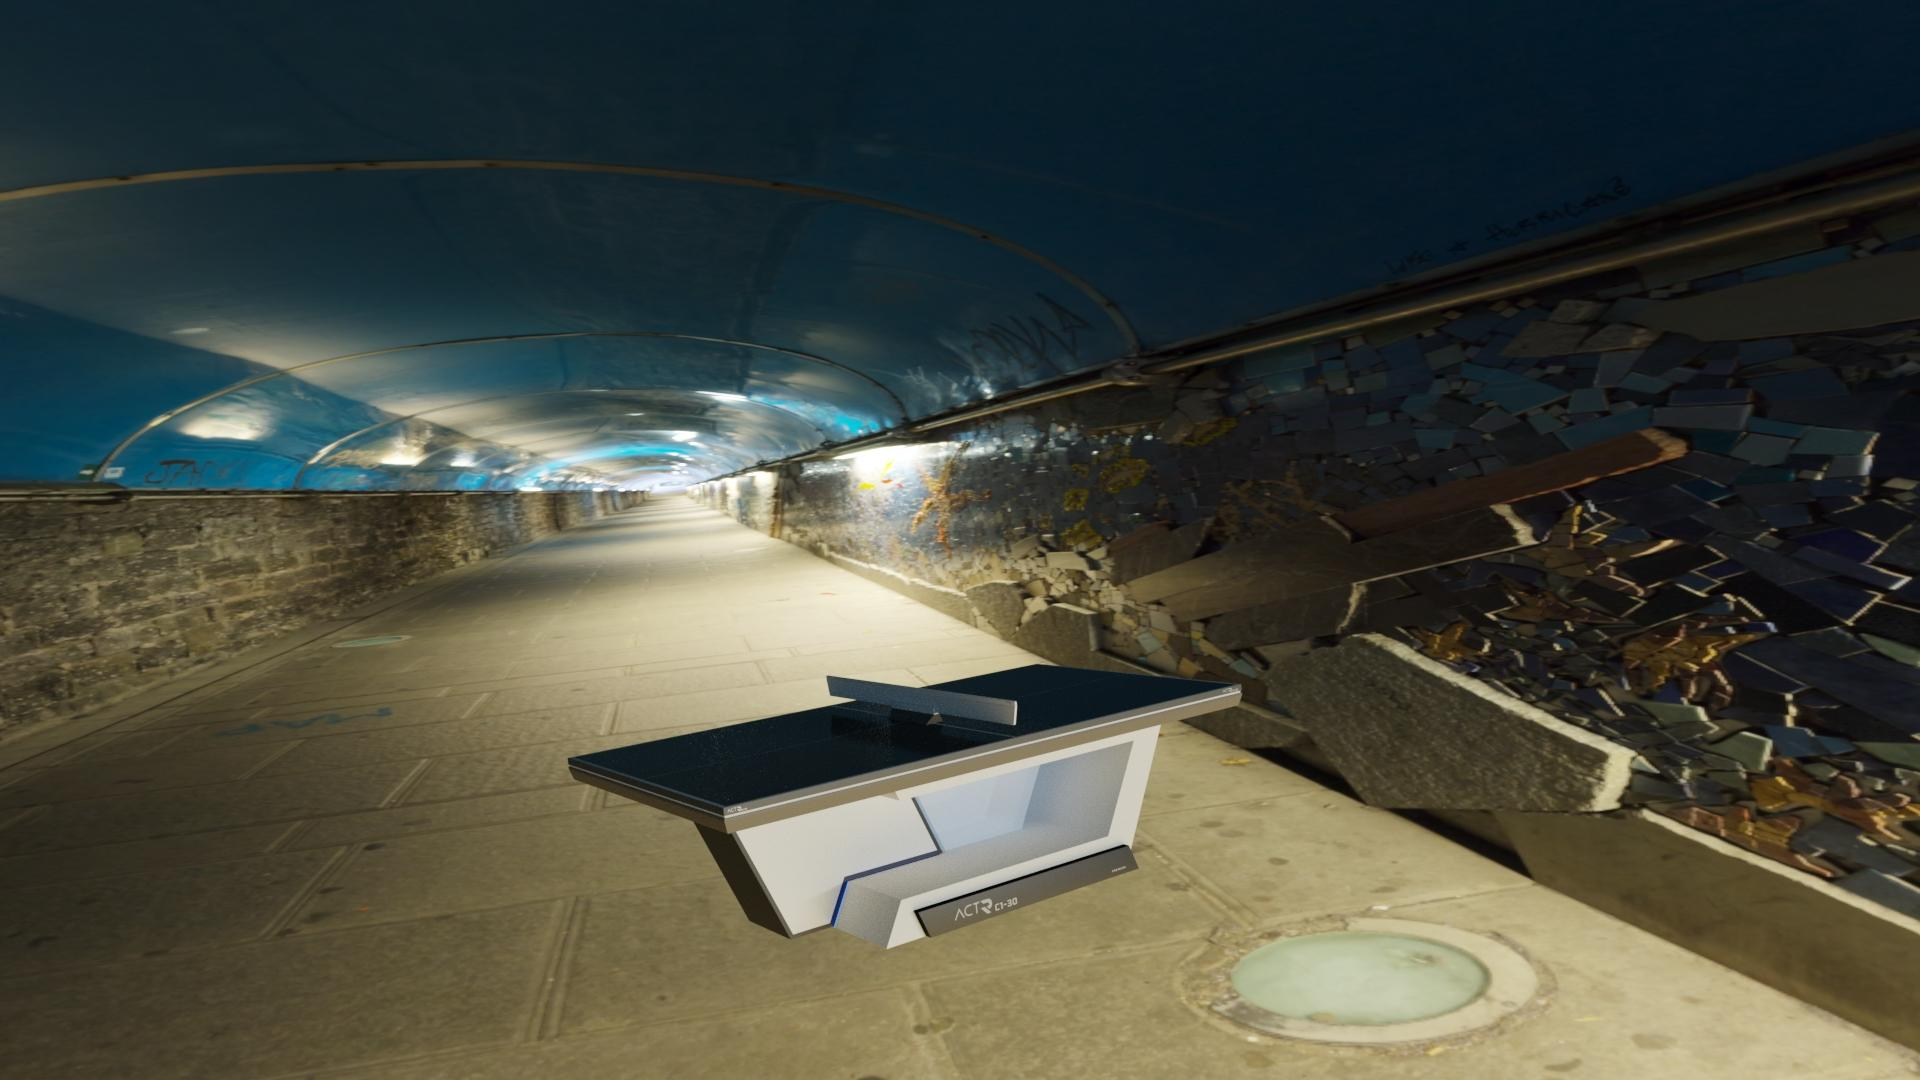table: (574, 665, 1236, 806)
